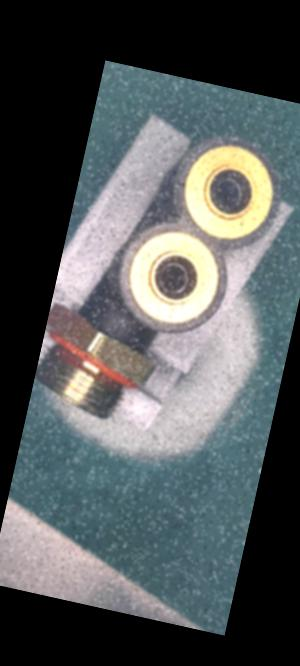craze: (109, 325, 122, 340)
